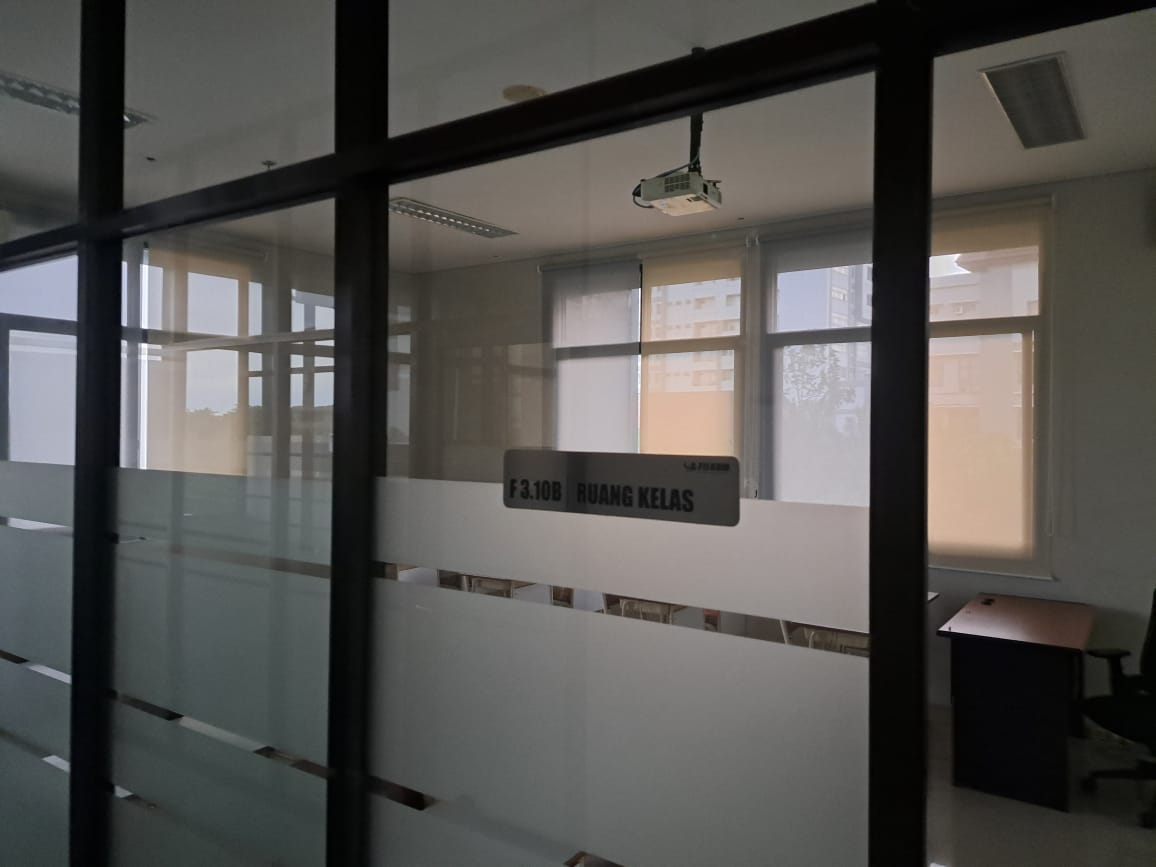ruangan: (495, 444, 743, 533)
